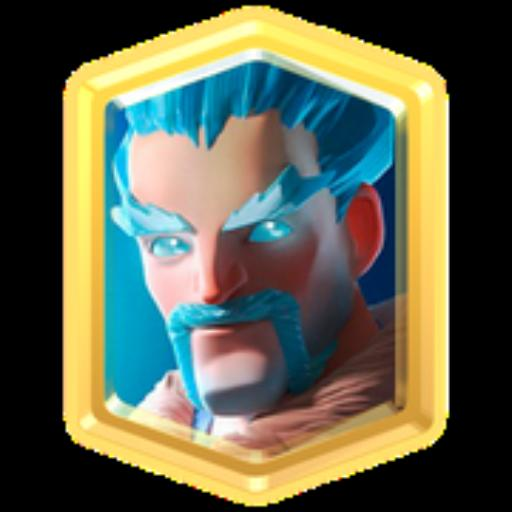ice-wizard: (97, 56, 401, 458)
